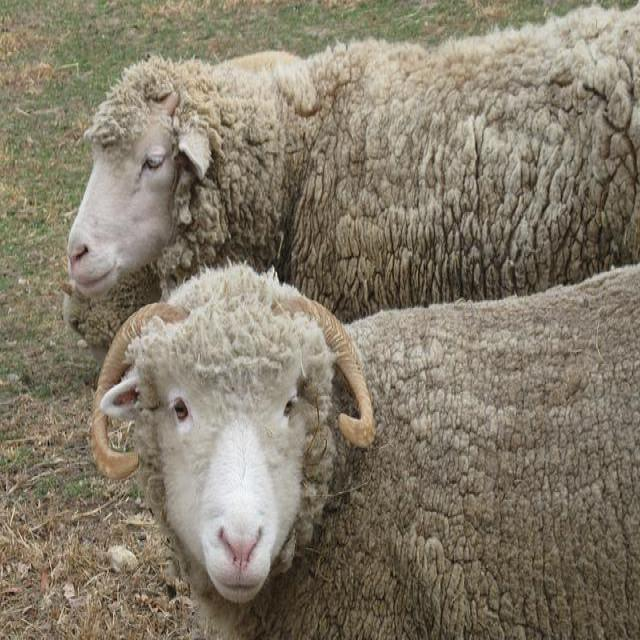Sheep: (82, 255, 639, 632), (55, 3, 639, 333)
